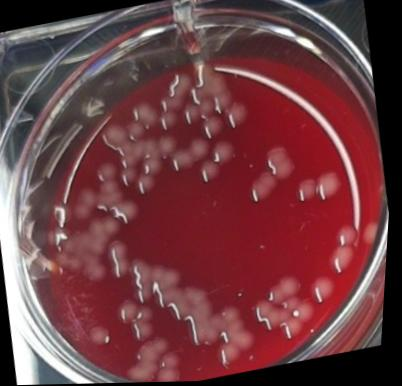vharveyi: (324, 224, 367, 277), (264, 144, 302, 185), (245, 172, 284, 209), (314, 172, 349, 204), (309, 275, 342, 308), (195, 156, 226, 189), (294, 178, 323, 206), (210, 140, 240, 167)
